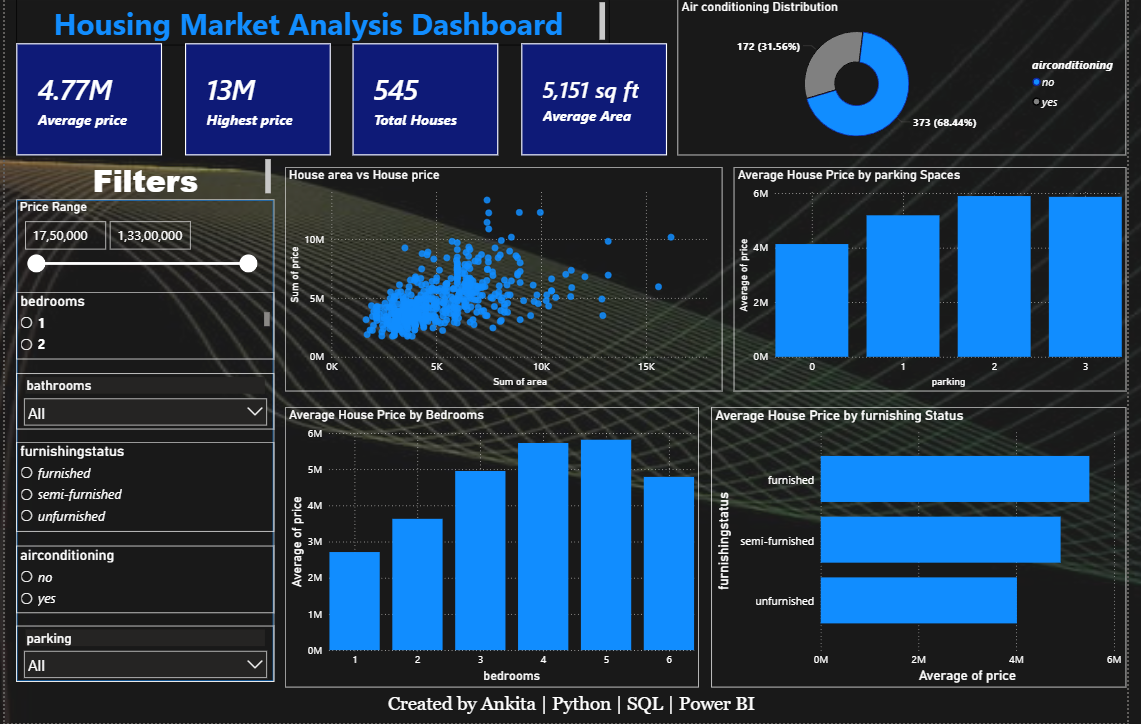

The page's visual inventory and layout, read from the dashboard file:
{"tool":"powerbi","page":{"name":"Page 1","canvas":[1600,1050],"ordinal":0},"visuals":[{"type":"textbox","box":[16,16,846,67],"z":0},{"type":"shape","box":[16,304,368,688],"z":1000},{"type":"cardVisual","title":"Average House price","fields":{"Data":["Avg(cleaned_housing.price)"]},"box":[16,80,208,160],"z":2000},{"type":"cardVisual","title":"Highest price","fields":{"Data":["Max(cleaned_housing.price)"]},"box":[256,80,208,160],"z":3000},{"type":"cardVisual","fields":{"Data":["CountNonNull(cleaned_housing.price)"]},"box":[496,80,208,160],"z":4000},{"type":"cardVisual","fields":{"Data":["cleaned_housing.Average Area Text"]},"box":[736,80,208,160],"z":5000},{"type":"clusteredColumnChart","title":"Average House Price by Bedrooms","fields":{"Category":["cleaned_housing.bedrooms"],"Y":["Avg(cleaned_housing.price)"]},"box":[400,600,590,400],"z":6000},{"type":"clusteredBarChart","title":"Average House Price by furnishing Status ","fields":{"Category":["cleaned_housing.furnishingstatus"],"Y":["Avg(cleaned_housing.price)"]},"box":[1008,600,592,400],"z":7000},{"type":"scatterChart","title":"House area vs House price","fields":{"X":["Sum(cleaned_housing.area)"],"Y":["Sum(cleaned_housing.price)"],"Category":["cleaned_housing.Index"]},"box":[400,256,624,320],"z":8000},{"type":"donutChart","title":"Air conditioning Distribution","fields":{"Category":["cleaned_housing.airconditioning"],"Y":["CountNonNull(cleaned_housing.price)"]},"box":[960,16,640,224],"z":9000},{"type":"clusteredColumnChart","title":"Average House Price by parking Spaces","fields":{"Category":["cleaned_housing.parking"],"Y":["Avg(cleaned_housing.price)"]},"box":[1040,256,560,320],"z":10000},{"type":"textbox","box":[16,240,368,64],"z":11000},{"type":"listSlicer","fields":{"Values":["cleaned_housing.bedrooms"]},"box":[16,435.2,368,96],"z":12000},{"type":"slicer","fields":{"Values":["cleaned_housing.bathrooms"]},"box":[16,550.4,368,80],"z":13000},{"type":"listSlicer","fields":{"Values":["cleaned_housing.furnishingstatus"]},"box":[16,649.6,368,128],"z":14000},{"type":"listSlicer","fields":{"Values":["cleaned_housing.airconditioning"]},"box":[16,796.8,368,96],"z":15000},{"type":"slicer","fields":{"Values":["cleaned_housing.parking"]},"box":[16,912,368,80],"z":16000},{"type":"slicer","title":"Price Range","fields":{"Values":["cleaned_housing.price"]},"box":[16,304,352,112],"z":17000},{"type":"textbox","box":[16,1002,1584,48],"z":18000}]}

Visuals, with their boxes in screenshot pixels (x1, y1, x2, y2):
textbox: select_region(11, 0, 609, 41)
shape: select_region(11, 197, 271, 682)
"Average House price" cardVisual: select_region(11, 39, 158, 152)
"Highest price" cardVisual: select_region(181, 39, 328, 152)
cardVisual - CountNonNull(cleaned_housing.price): select_region(350, 39, 497, 152)
cardVisual - cleaned_housing.Average Area Text: select_region(520, 39, 666, 152)
"Average House Price by Bedrooms" clusteredColumnChart: select_region(282, 406, 699, 688)
"Average House Price by furnishing Status " clusteredBarChart: select_region(712, 406, 1130, 688)
"House area vs House price" scatterChart: select_region(282, 163, 723, 389)
"Air conditioning Distribution" donutChart: select_region(678, 0, 1130, 152)
"Average House Price by parking Spaces" clusteredColumnChart: select_region(734, 163, 1130, 389)
textbox: select_region(11, 152, 271, 197)
listSlicer - cleaned_housing.bedrooms: select_region(11, 289, 271, 357)
slicer - cleaned_housing.bathrooms: select_region(11, 371, 271, 427)
listSlicer - cleaned_housing.furnishingstatus: select_region(11, 441, 271, 531)
listSlicer - cleaned_housing.airconditioning: select_region(11, 545, 271, 612)
slicer - cleaned_housing.parking: select_region(11, 626, 271, 682)
"Price Range" slicer: select_region(11, 197, 260, 276)
textbox: select_region(11, 690, 1130, 723)
